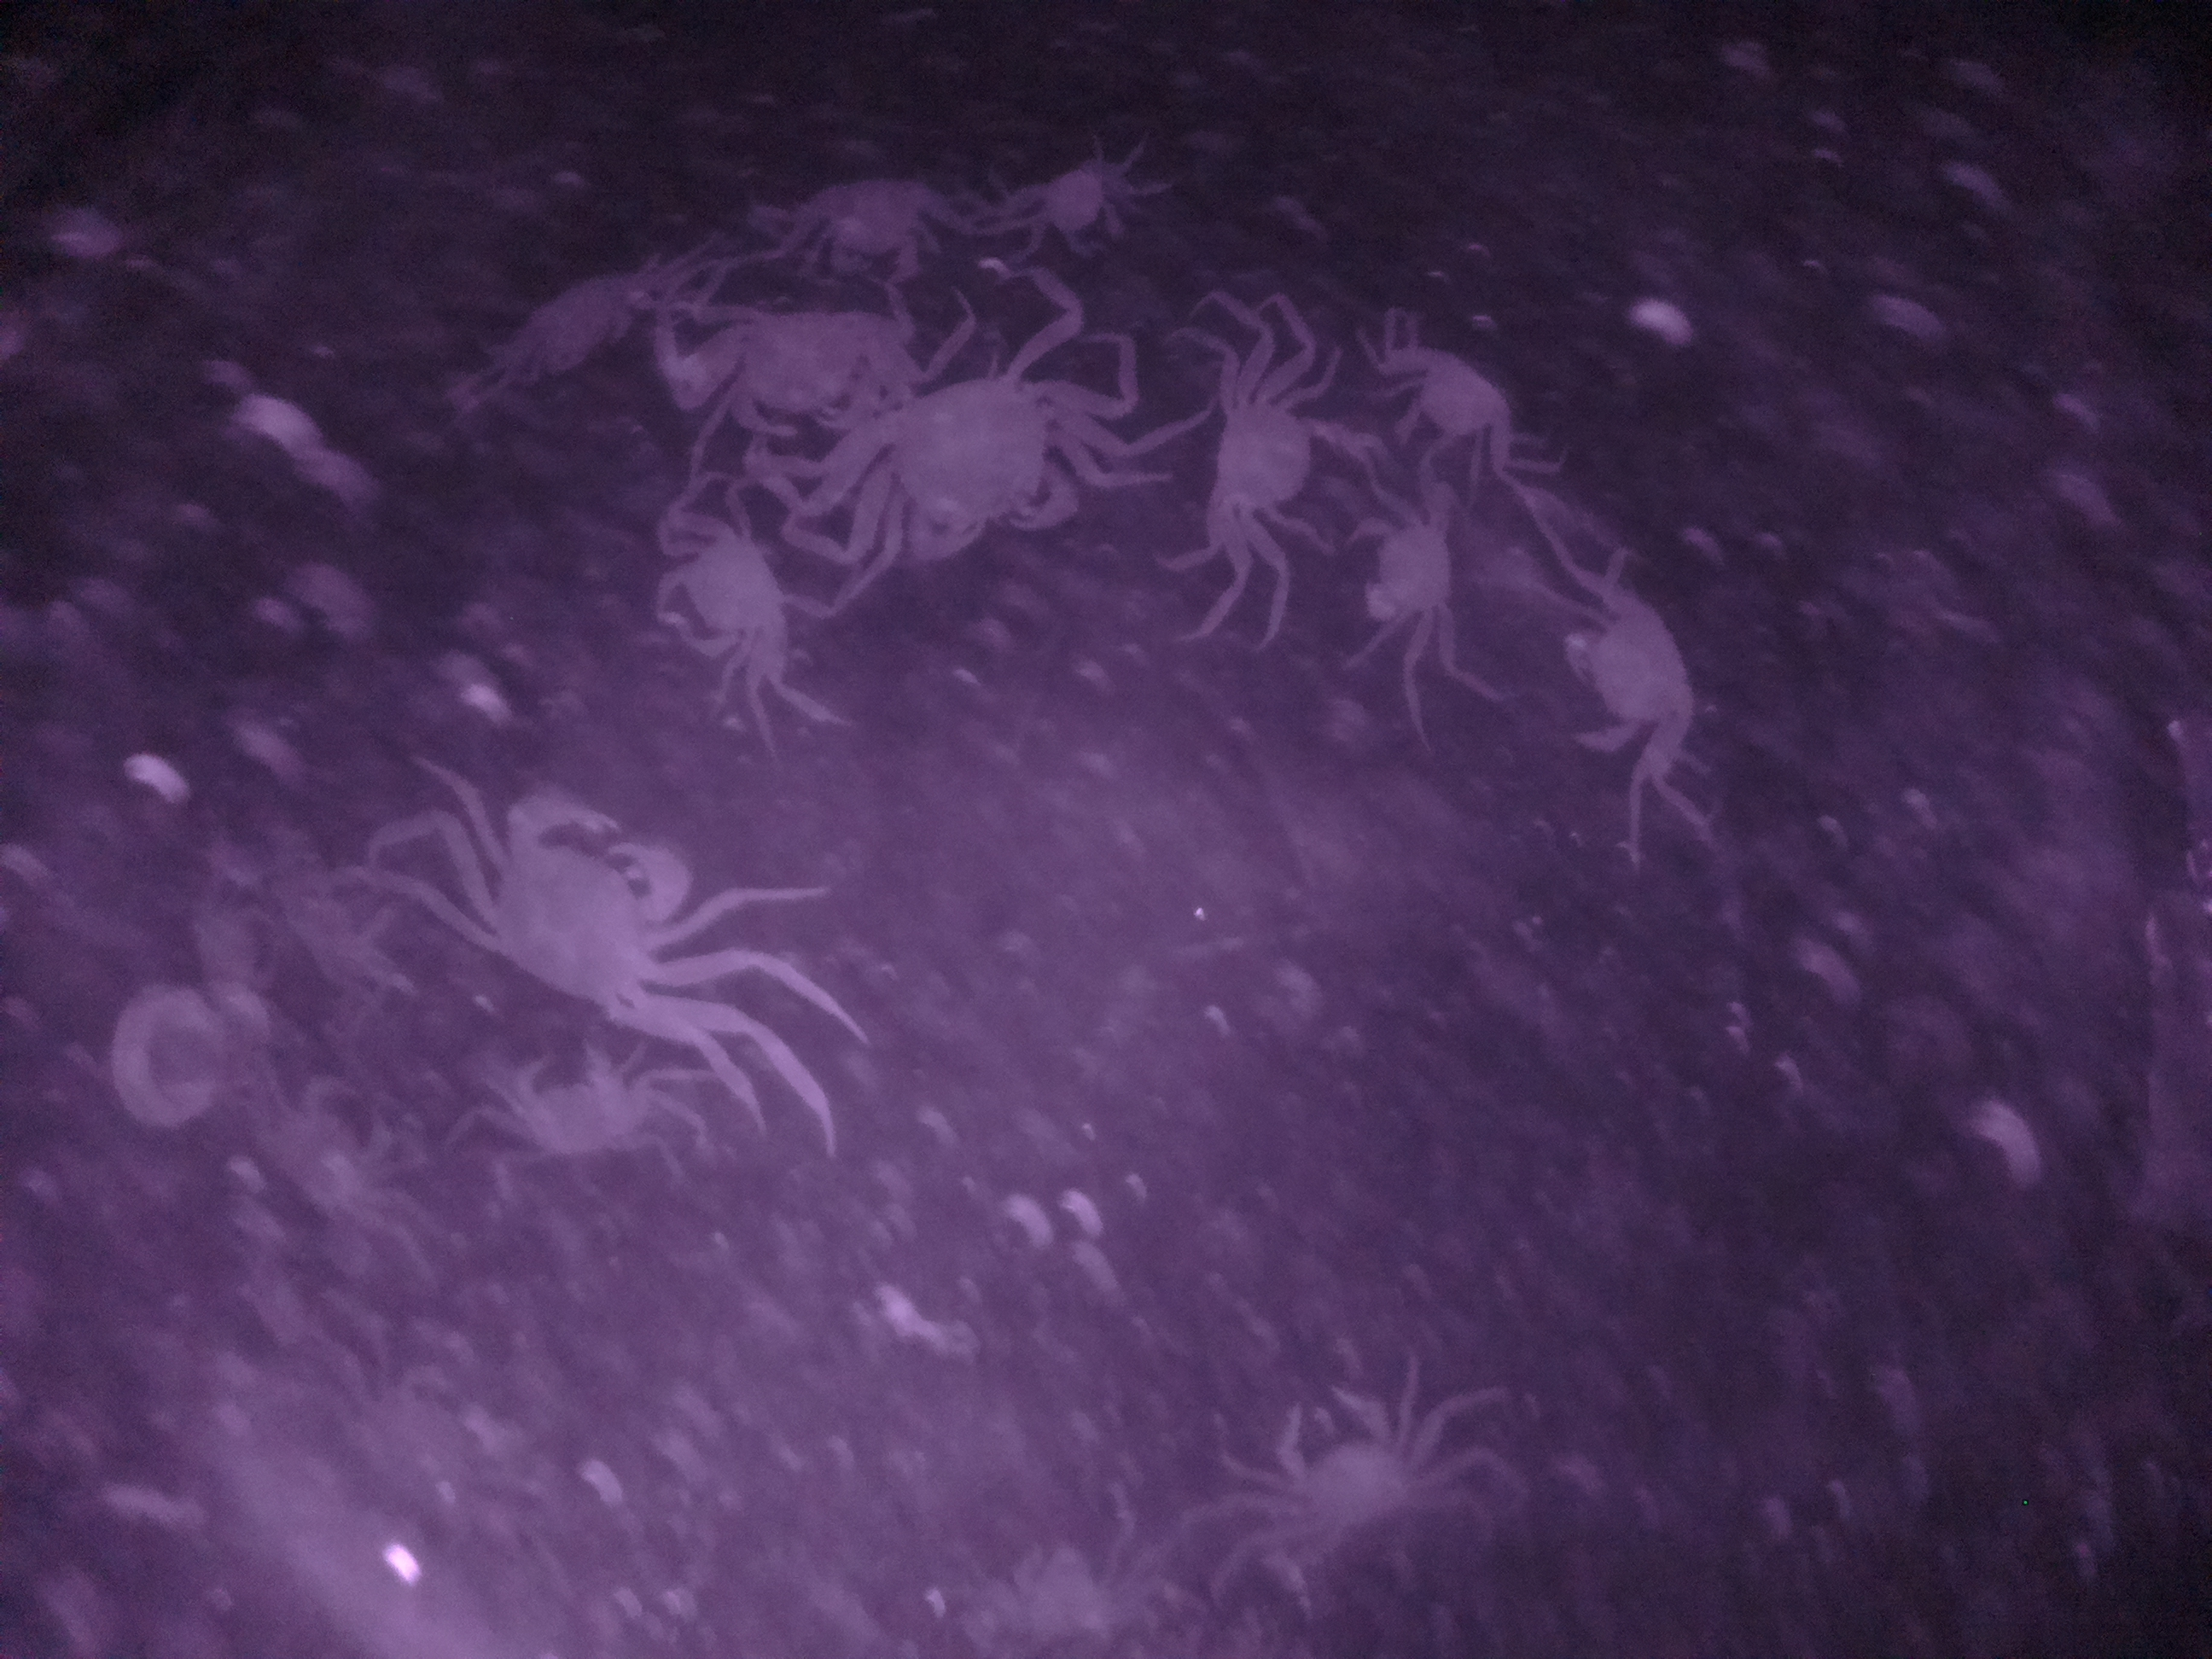Crab: (442, 762, 707, 1033), (840, 349, 1103, 575), (1249, 1371, 1446, 1572), (1555, 575, 1712, 784), (641, 502, 801, 692), (1339, 484, 1493, 652), (1191, 371, 1334, 542), (789, 160, 965, 291), (1383, 338, 1533, 474)
